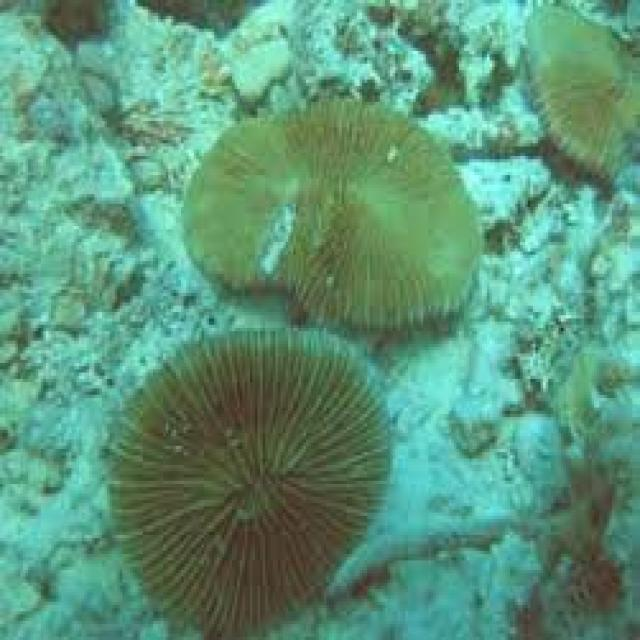Healthy Coral: (102, 318, 408, 640), (177, 77, 480, 332), (518, 0, 633, 161)
